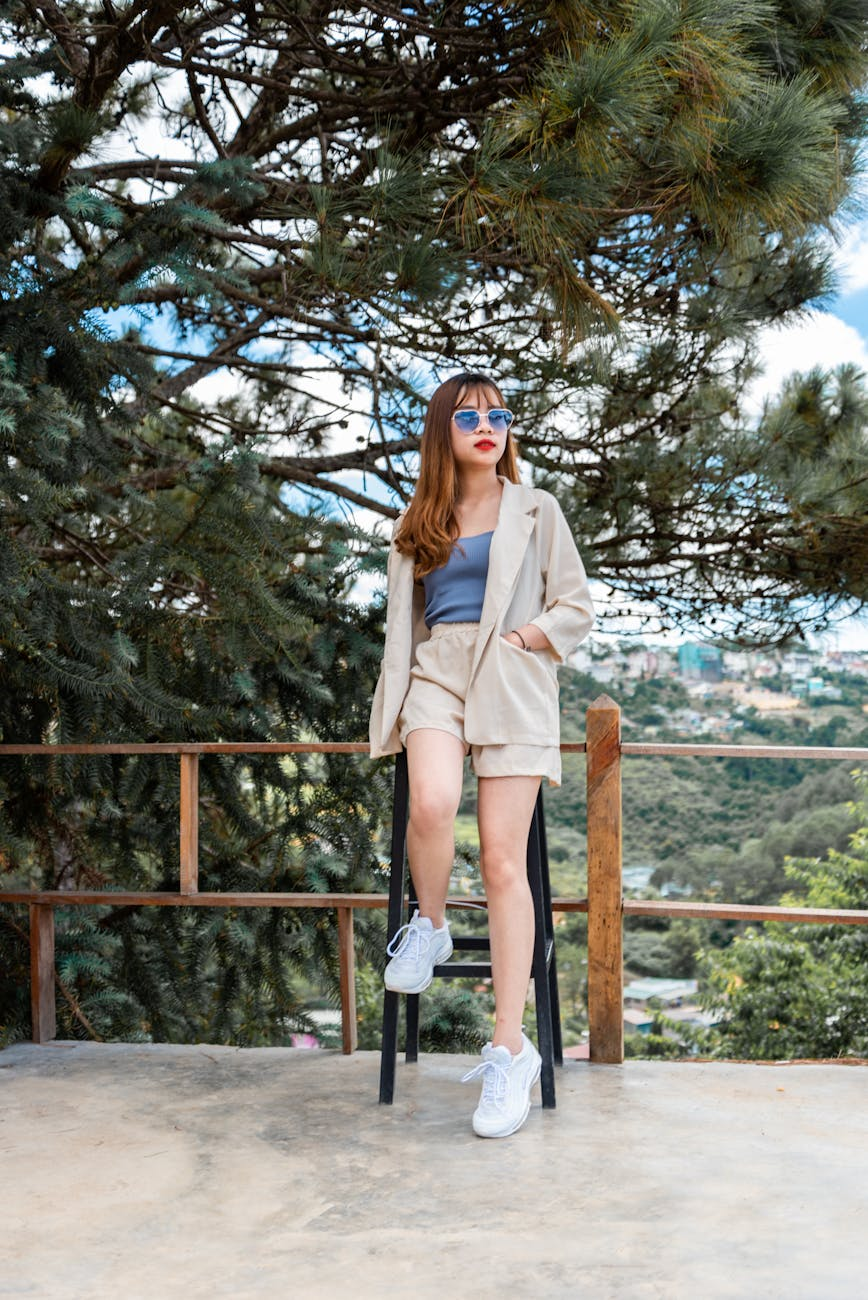shorts: (383, 625, 575, 782)
